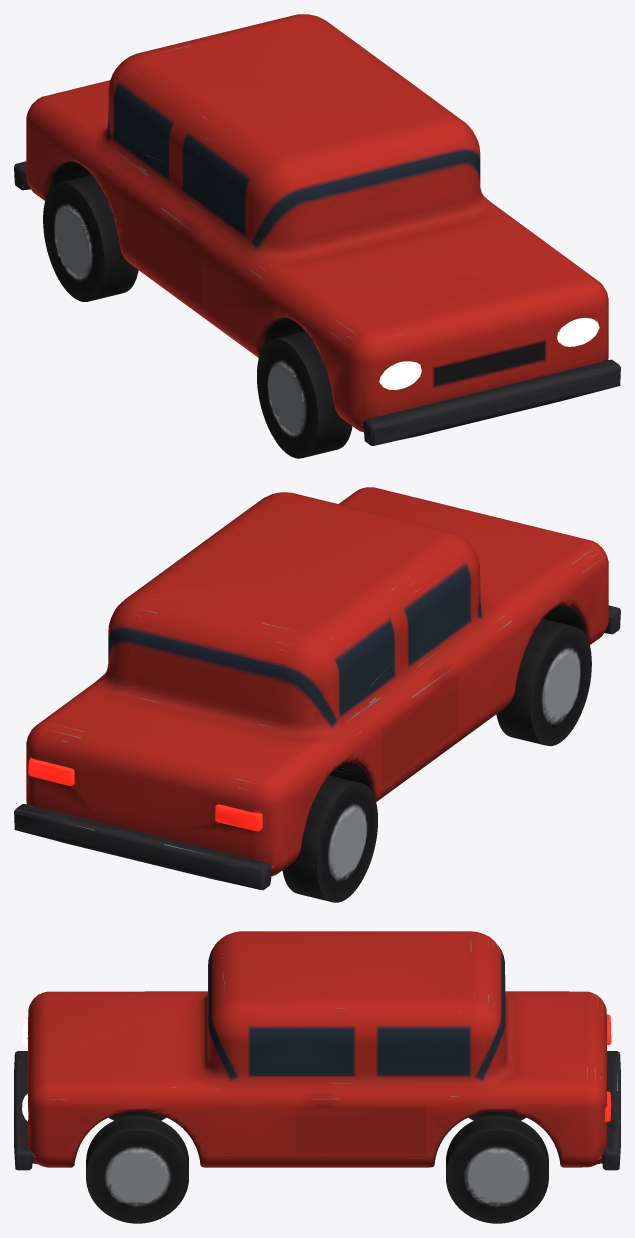
The model's file is car_edits.glb.
3 renders of one model, top to bottom at view 1: azimuth 30°, elevation 25°; view 2: azimuth 150°, elevation 25°; view 3: azimuth 270°, elevation 25°, orthographic. The views are drawn at different scales.
Visible parts, largest first — view 1: car_edits; view 2: car_edits; view 3: car_edits.
Boxes of the visible parts, x1,y1,x2,y2 form: car_edits: (14,14,620,458); car_edits: (14,487,620,902); car_edits: (14,931,620,1223).
Bounding box in the file's own units: 1.72 × 1.42 × 3.88.
1 material, 1 textured.
